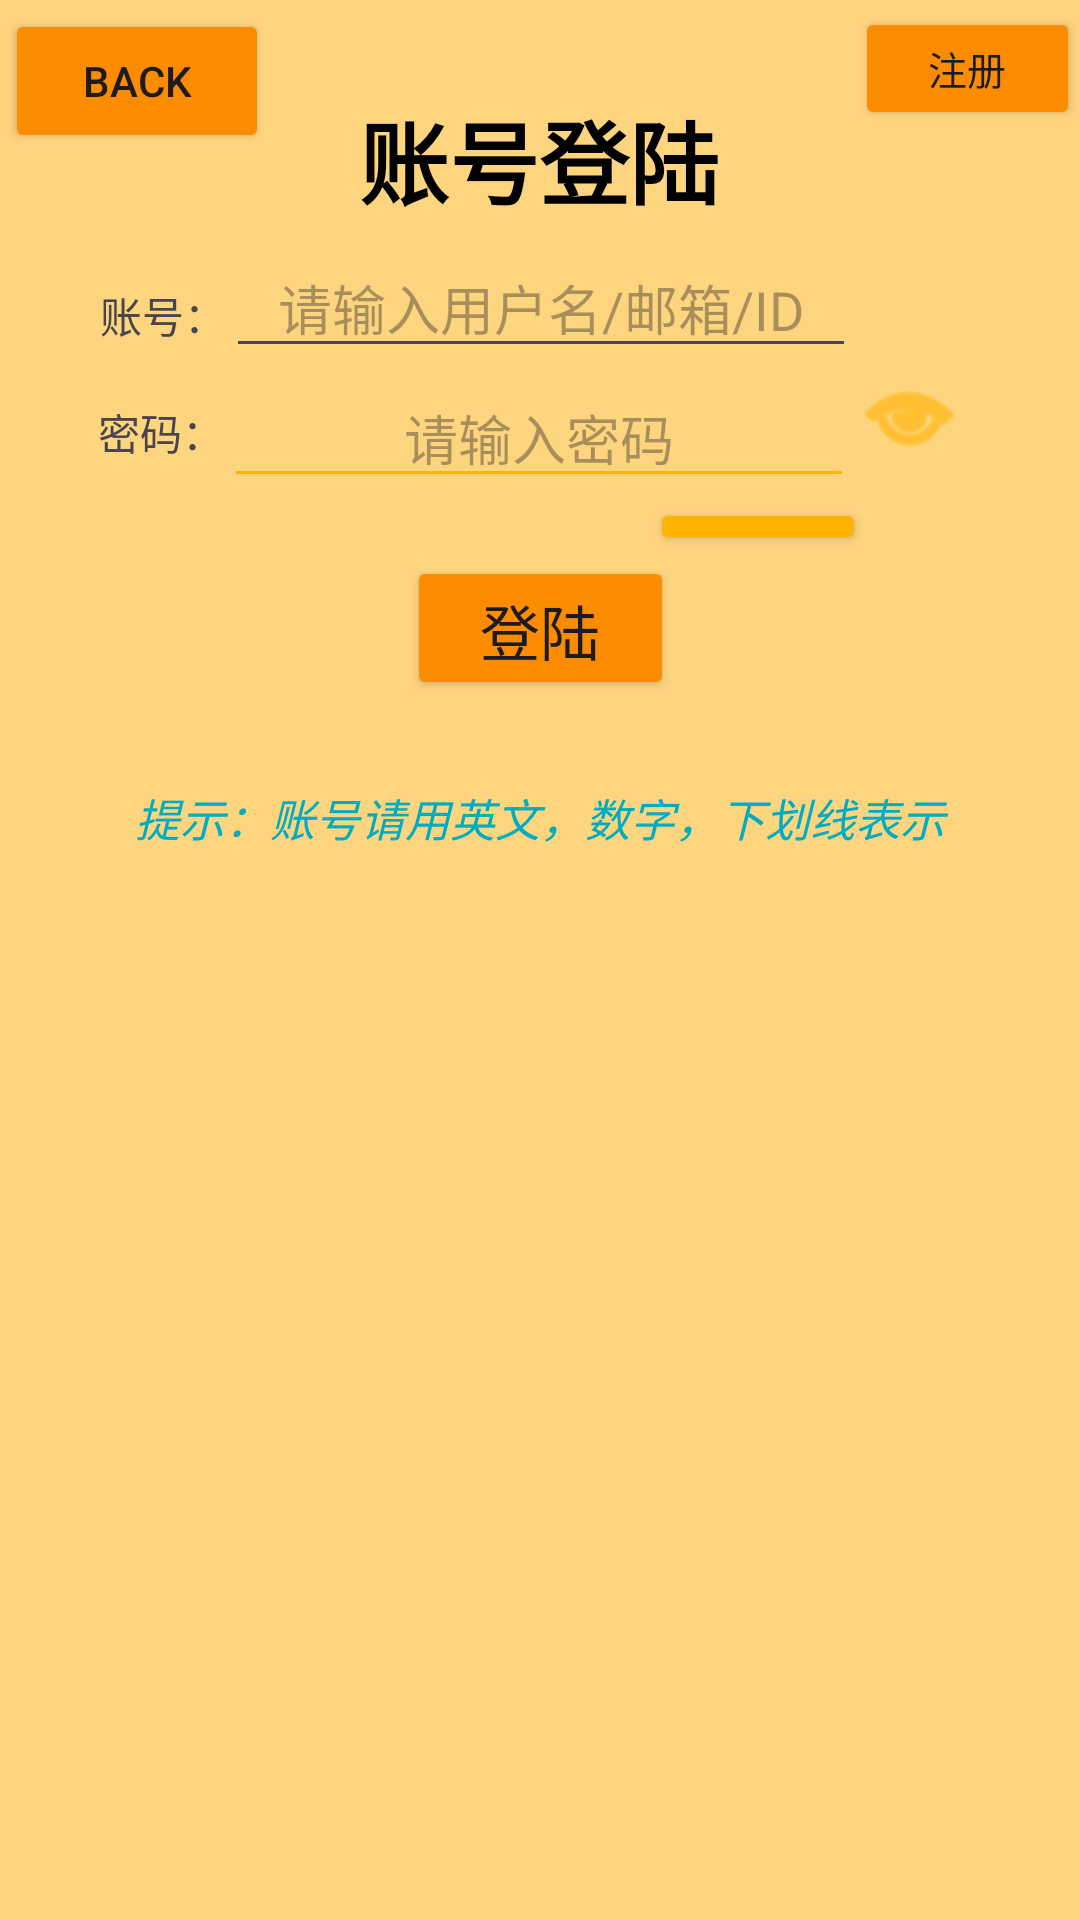

Where to tap for icons on this 1080px×1920px app screen, as (x,y):
view: (909,418)
